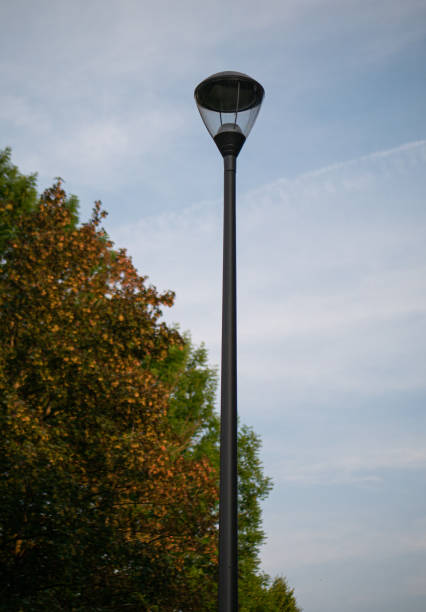light_pole: (216, 173, 242, 612)
